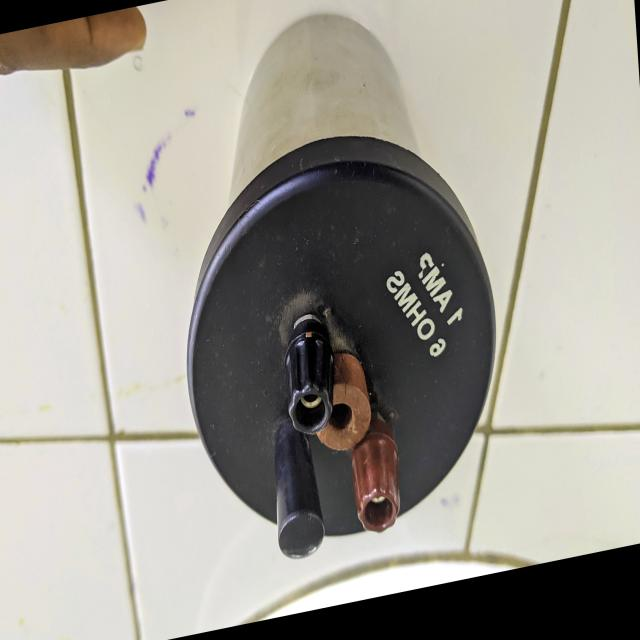Joule-s Calorimeter: (164, 0, 525, 593)
